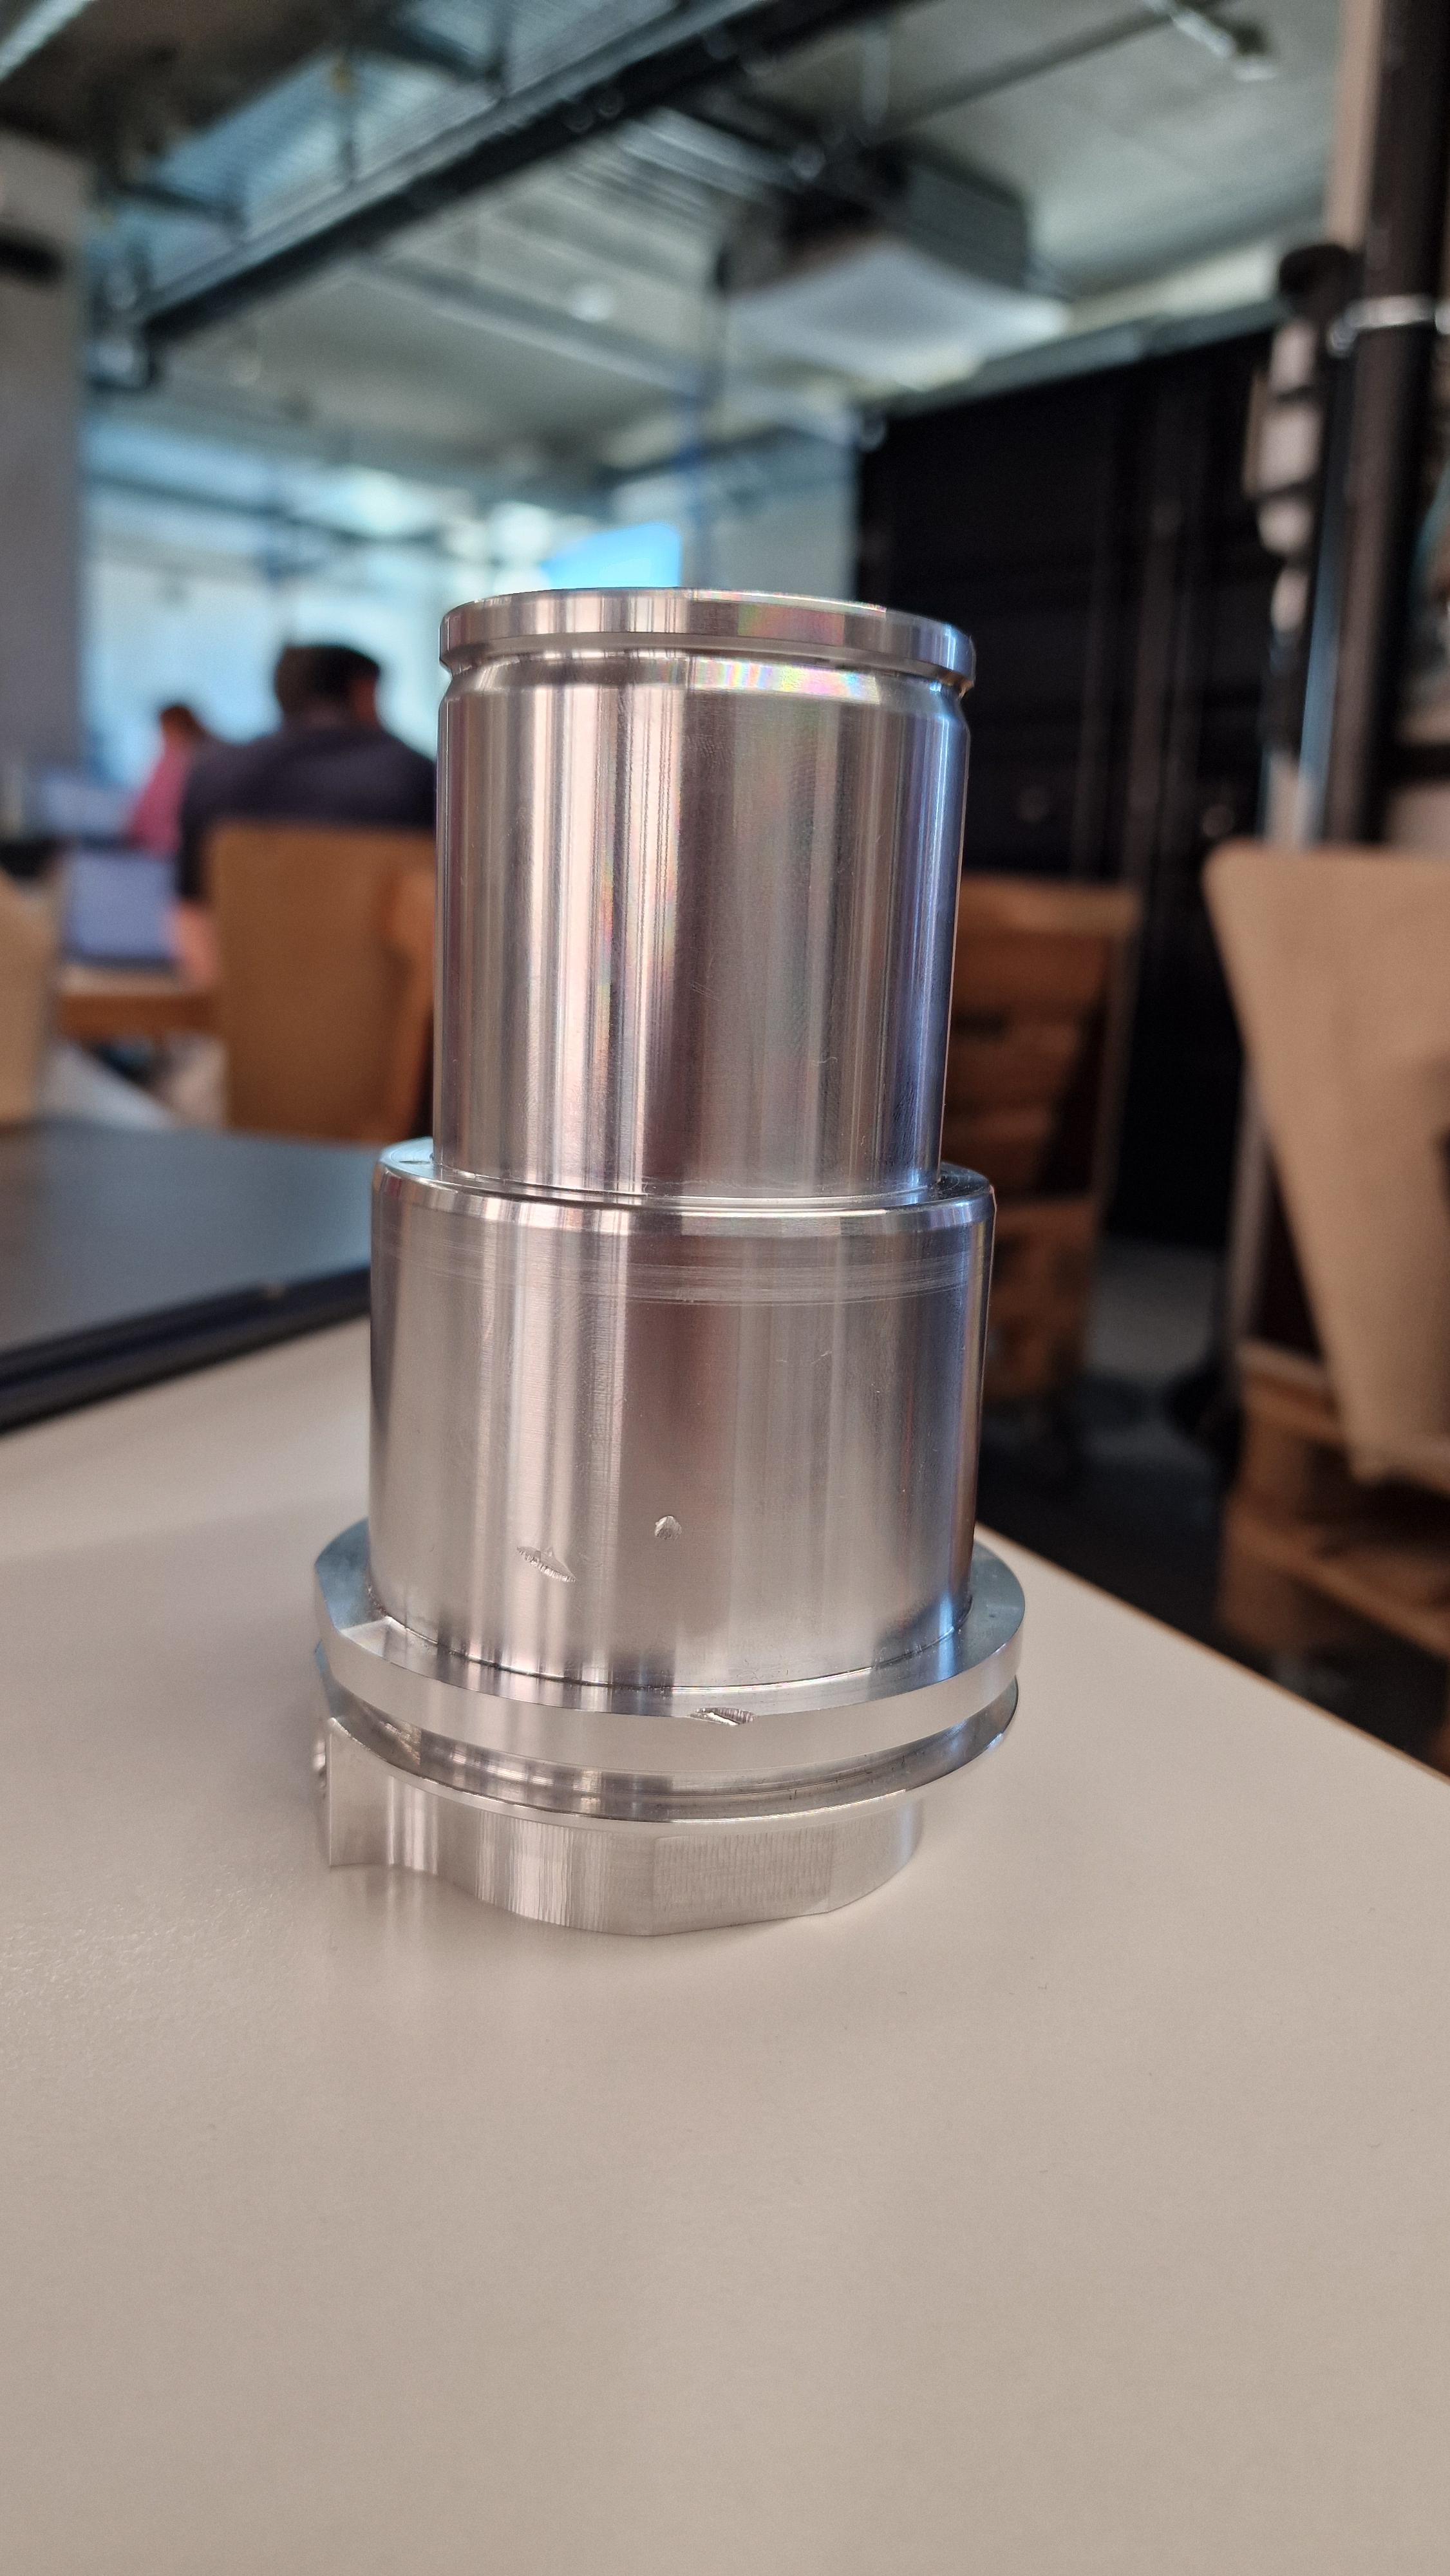damage: (506, 1537, 605, 1592), (679, 1700, 769, 1737), (635, 1507, 702, 1550)
objects: (292, 586, 1042, 1944)
